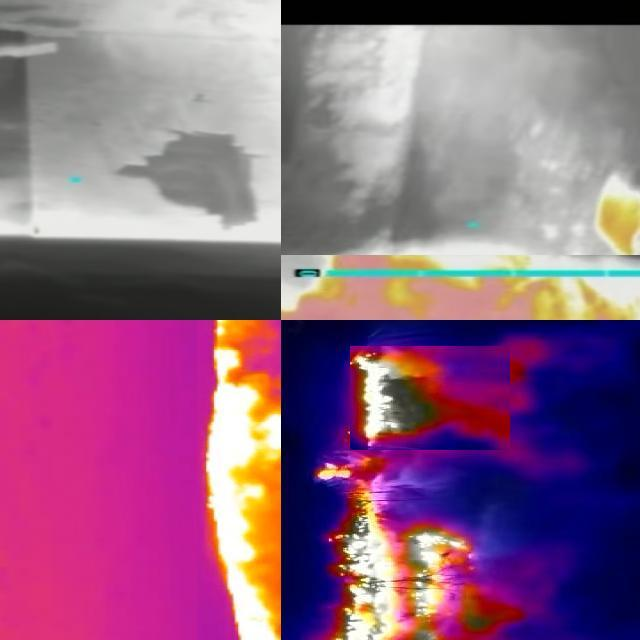fire: (309, 463, 493, 640), (197, 321, 282, 640), (282, 256, 640, 321), (350, 347, 510, 451)
